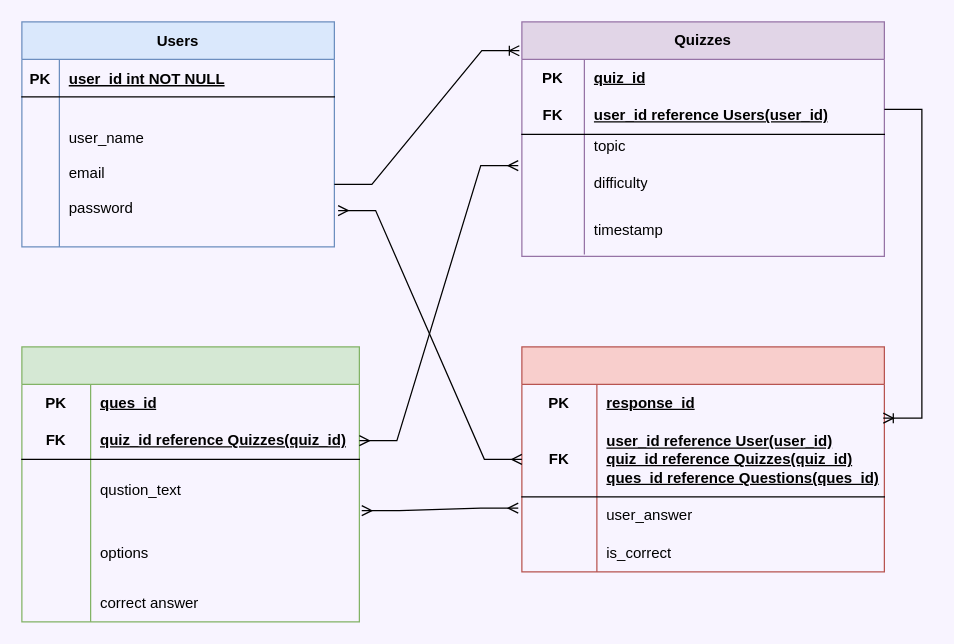
This 954x644 diagram has some shape labels left out. The box of each missing label's shape, as (x1, y1, x2, y2) in pixels:
Questions: (21, 346, 359, 622)
Responses: (521, 346, 884, 572)
